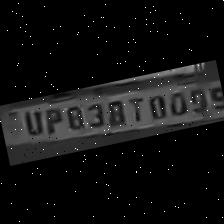0: (141, 88, 169, 120), (162, 86, 188, 117)
3: (79, 96, 107, 130)
8: (60, 100, 86, 132)
9: (184, 82, 208, 114), (204, 80, 224, 110)
B: (100, 94, 128, 127)
P: (36, 102, 64, 136)
T: (122, 92, 146, 122)
U: (16, 105, 44, 136)
